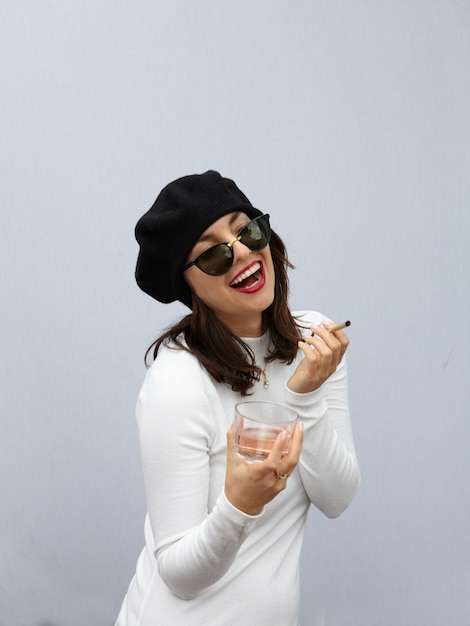alcohol: (236, 401, 300, 468)
cigarette: (325, 317, 354, 333)
